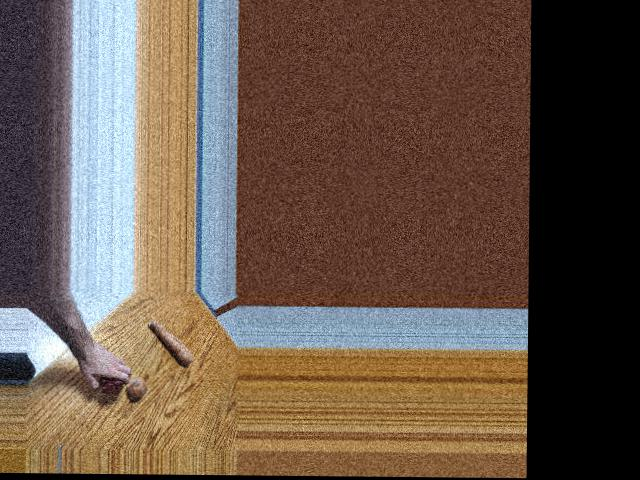onion: (98, 369, 123, 393)
